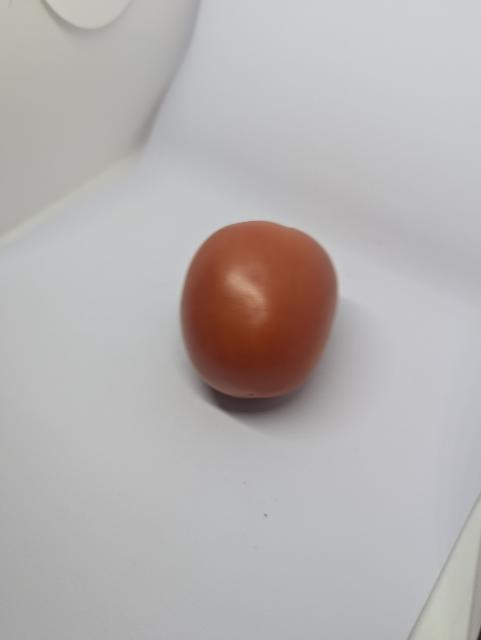red: (165, 208, 354, 412)
